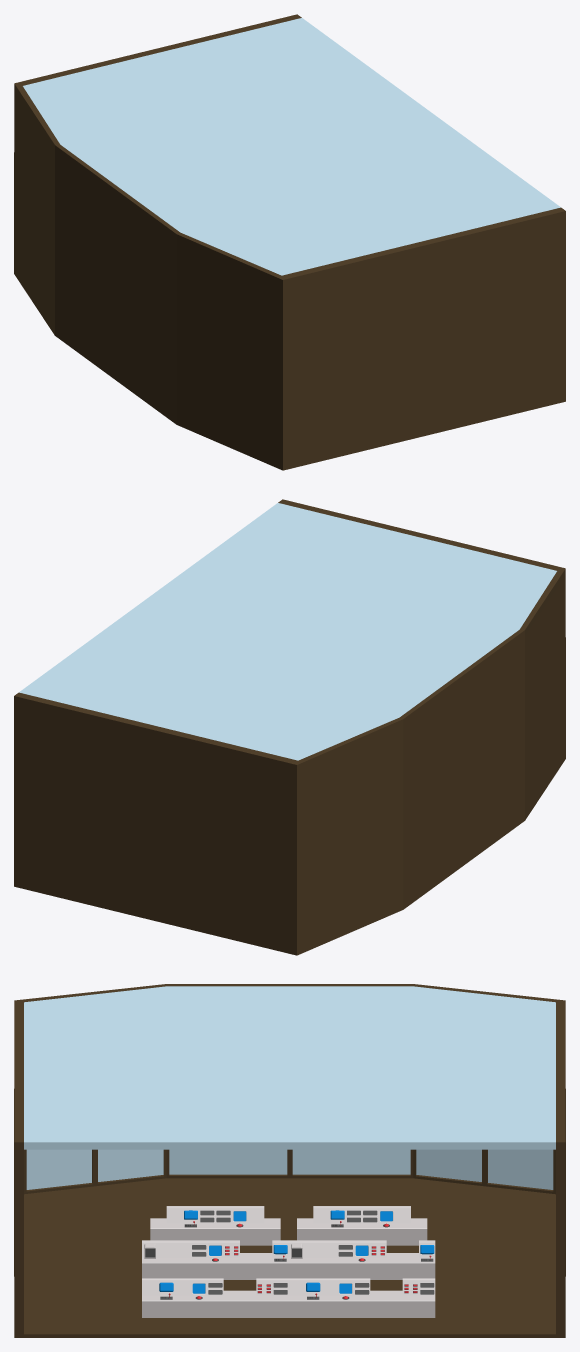
File: control-room.glb
3 renders of one model, top to bottom at view 1: azimuth 30°, elevation 25°; view 2: azimuth 150°, elevation 25°; view 3: azimuth 270°, elevation 25°, orthographic. The views are drawn at different scales.
Visible parts, largest first — view 1: Room; view 2: Room; view 3: Room, Panel1.002.
Boxes of the visible parts, x1=… form: Room: x1=14, y1=14, x2=565, y2=470; Room: x1=14, y1=499, x2=565, y2=955; Room: x1=14, y1=984, x2=565, y2=1337; Panel1.002: x1=142, y1=1206, x2=435, y2=1317.
Size of the model in its own units: 45.95 by 26.5 by 67.75.
